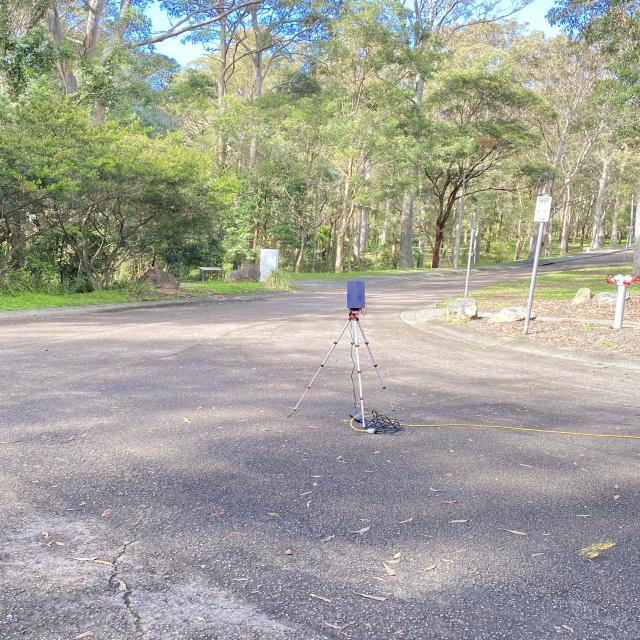matrix: (345, 280, 366, 310)
